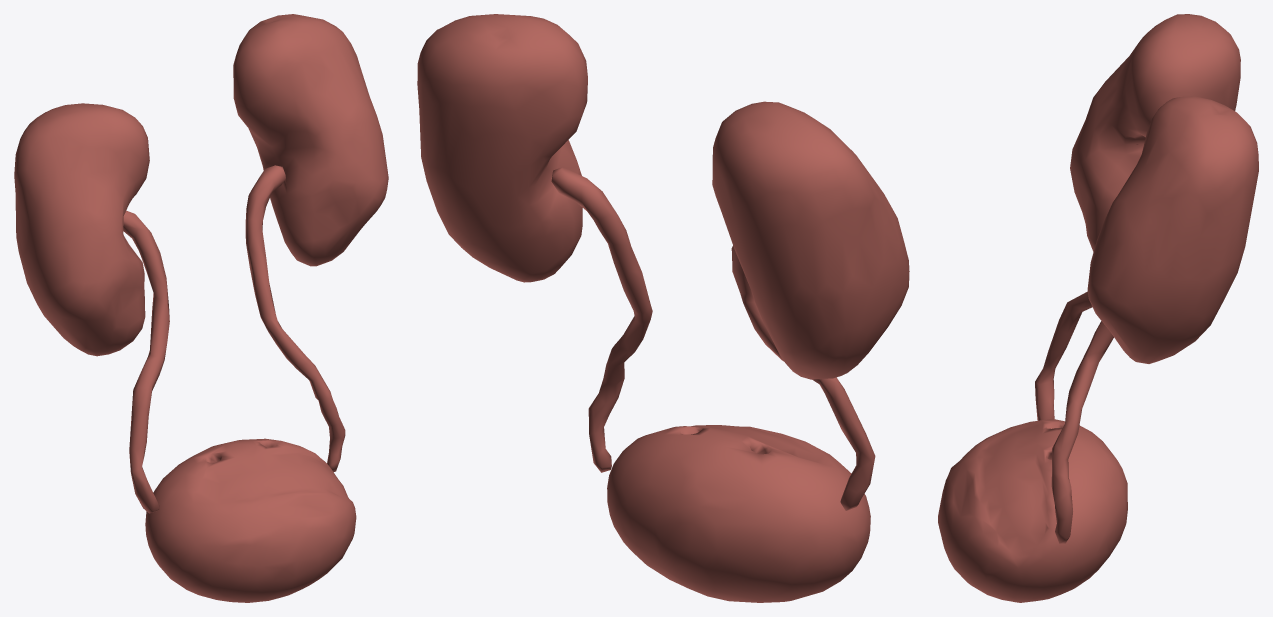
The model's file is pediatric_neonate_male.urinary.LOD1.glb.
3 renders of one model, left to right at view 1: azimuth 30°, elevation 25°; view 2: azimuth 150°, elevation 25°; view 3: azimuth 270°, elevation 25°, orthographic. The views are drawn at different scales.
Parts seen in each view (by area): view 1: PEDIATRIC.NEONATE.MALE.URINARY.KIDNEY_CORTEX.R, PEDIATRIC.NEONATE.MALE.URINARY.KIDNEY_CORTEX.L, PEDIATRIC.NEONATE.MALE.URINARY.URINARY_BLADDER_WALL, PEDIATRIC.NEONATE.MALE.URINARY.URETER.L, PEDIATRIC.NEONATE.MALE.URINARY.URETER.R; view 2: PEDIATRIC.NEONATE.MALE.URINARY.KIDNEY_CORTEX.R, PEDIATRIC.NEONATE.MALE.URINARY.KIDNEY_CORTEX.L, PEDIATRIC.NEONATE.MALE.URINARY.URINARY_BLADDER_WALL, PEDIATRIC.NEONATE.MALE.URINARY.URETER.L, PEDIATRIC.NEONATE.MALE.URINARY.URETER.R; view 3: PEDIATRIC.NEONATE.MALE.URINARY.KIDNEY_CORTEX.L, PEDIATRIC.NEONATE.MALE.URINARY.URINARY_BLADDER_WALL, PEDIATRIC.NEONATE.MALE.URINARY.KIDNEY_CORTEX.R, PEDIATRIC.NEONATE.MALE.URINARY.URETER.L, PEDIATRIC.NEONATE.MALE.URINARY.URETER.R.
Part boxes in pixels (x1,y1,x2,y2): PEDIATRIC.NEONATE.MALE.URINARY.KIDNEY_CORTEX.R: [14, 103, 149, 356]; PEDIATRIC.NEONATE.MALE.URINARY.KIDNEY_CORTEX.L: [233, 14, 388, 266]; PEDIATRIC.NEONATE.MALE.URINARY.URINARY_BLADDER_WALL: [145, 438, 356, 602]; PEDIATRIC.NEONATE.MALE.URINARY.URETER.L: [245, 165, 345, 471]; PEDIATRIC.NEONATE.MALE.URINARY.URETER.R: [123, 210, 169, 513]; PEDIATRIC.NEONATE.MALE.URINARY.KIDNEY_CORTEX.R: [712, 101, 909, 379]; PEDIATRIC.NEONATE.MALE.URINARY.KIDNEY_CORTEX.L: [417, 14, 587, 282]; PEDIATRIC.NEONATE.MALE.URINARY.URINARY_BLADDER_WALL: [607, 425, 870, 602]; PEDIATRIC.NEONATE.MALE.URINARY.URETER.L: [551, 167, 652, 472]; PEDIATRIC.NEONATE.MALE.URINARY.URETER.R: [731, 245, 875, 510]; PEDIATRIC.NEONATE.MALE.URINARY.KIDNEY_CORTEX.L: [1087, 96, 1258, 363]; PEDIATRIC.NEONATE.MALE.URINARY.URINARY_BLADDER_WALL: [938, 418, 1127, 602]; PEDIATRIC.NEONATE.MALE.URINARY.KIDNEY_CORTEX.R: [1070, 14, 1240, 251]; PEDIATRIC.NEONATE.MALE.URINARY.URETER.L: [1051, 321, 1113, 543]; PEDIATRIC.NEONATE.MALE.URINARY.URETER.R: [1035, 291, 1092, 420].
Bounding box in the file's own units: 0.0724 × 0.0956 × 0.0516.
